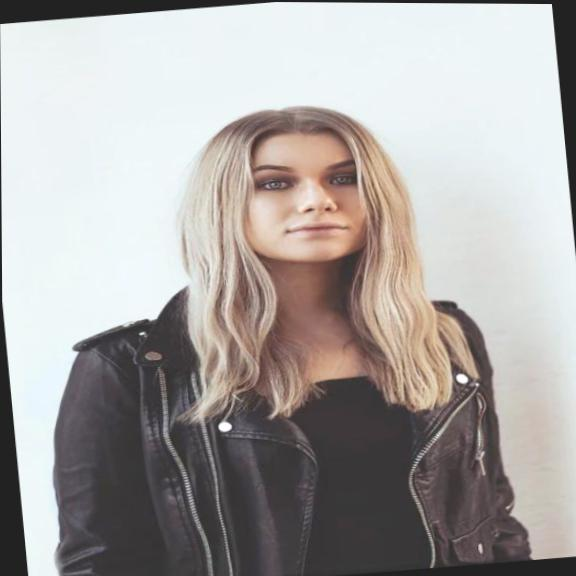no_safety_vest: (32, 270, 531, 576)
